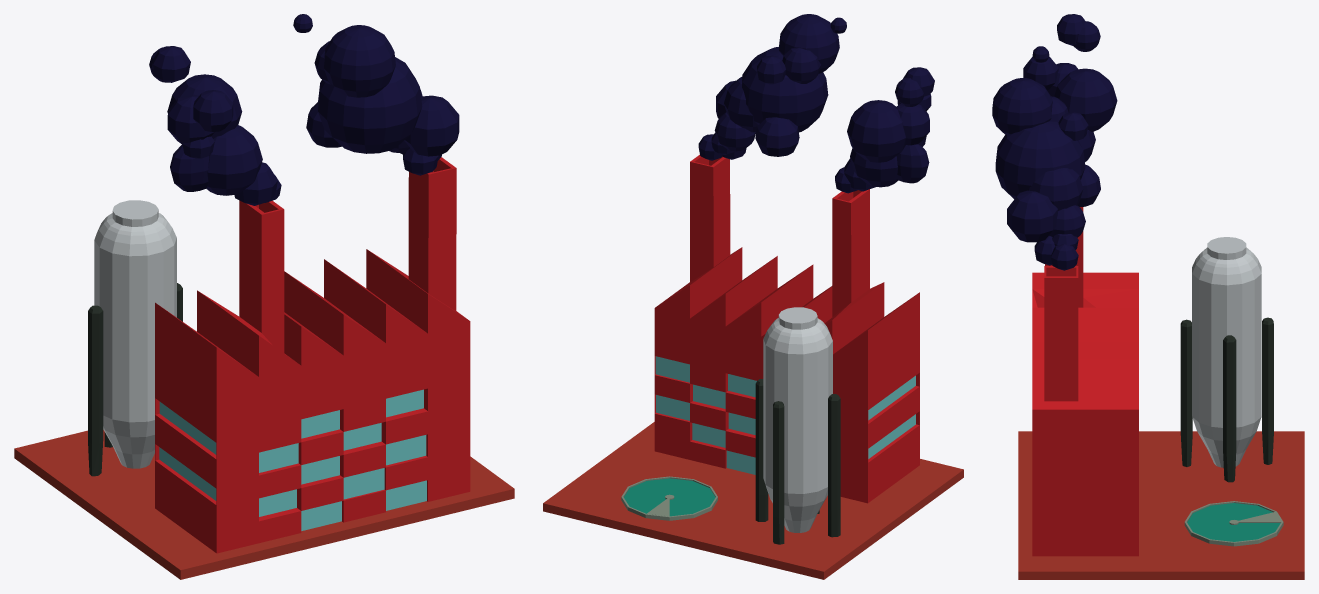
Rendered from usine.FBX.
The picture shows the model from 3 angles, left to right: view 1: azimuth 30°, elevation 25°; view 2: azimuth 150°, elevation 25°; view 3: azimuth 270°, elevation 25°; orthographic projection. The views are drawn at different scales.
Visible parts, largest first — view 1: usine; view 2: usine; view 3: usine.
Boxes of the visible parts, x1=… form: usine: x1=14, y1=14, x2=514, y2=579; usine: x1=543, y1=14, x2=963, y2=579; usine: x1=992, y1=14, x2=1304, y2=579.
Bounding box in the file's own units: 180 × 269 × 169.
